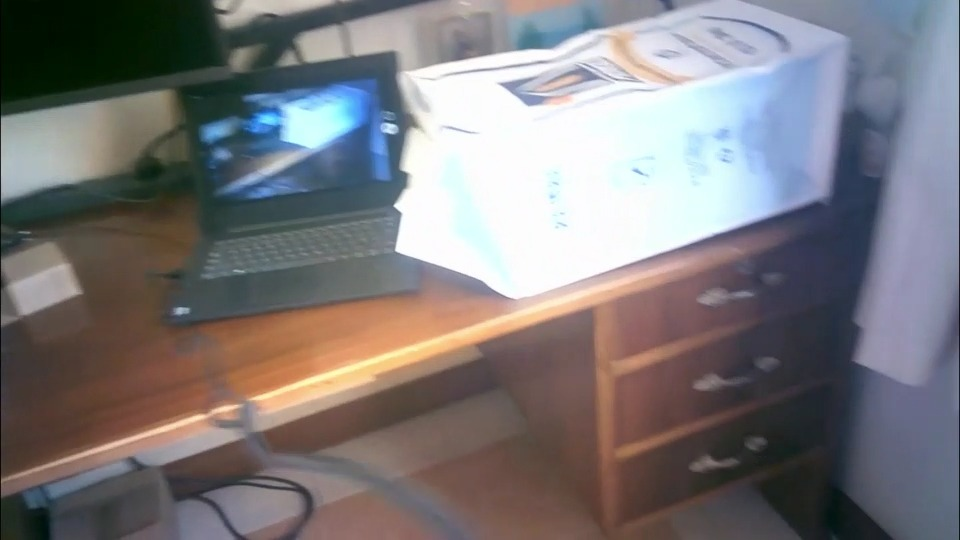wheat_flour_blue_label: (409, 2, 842, 296)
